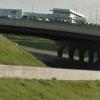Bridge: (1, 9, 97, 57)
